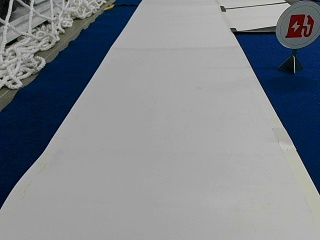battery: (274, 0, 319, 50)
